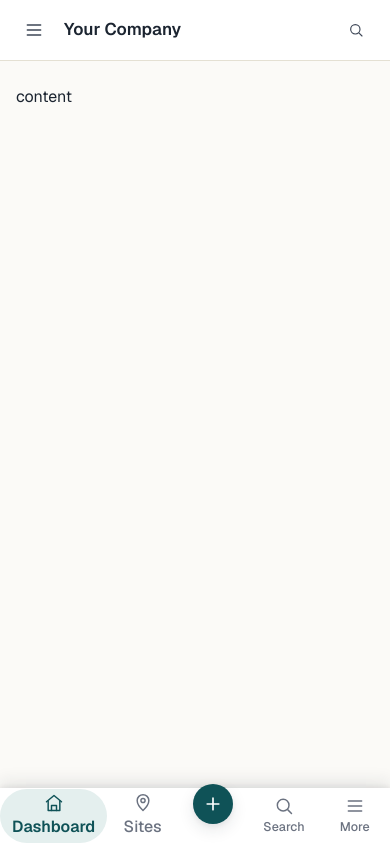
Test case: AppShell › closes the mobile drawer on Escape
Click the button named "Open navigation menu" at point(34, 30), box 16,12 -> 52,48
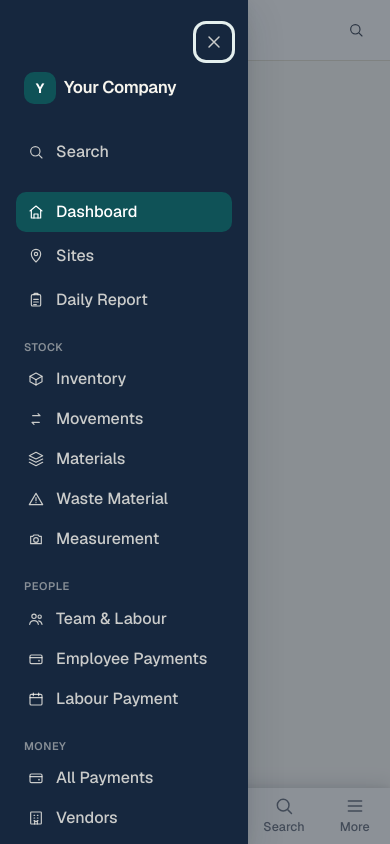
Press Escape
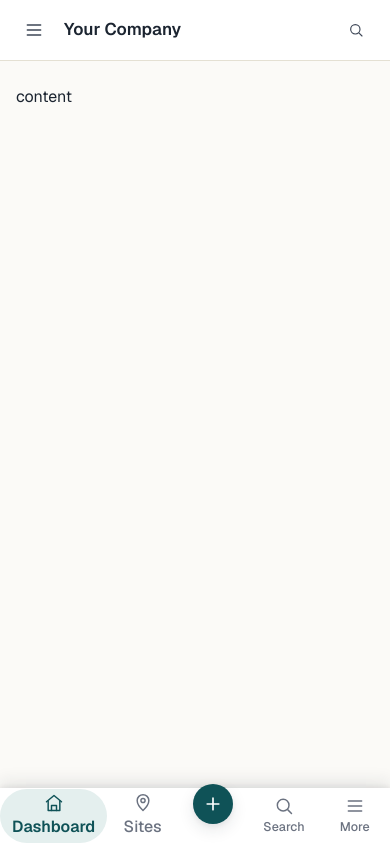
Check: the button named "Open navigation menu" is collapsed, box 16,12 -> 52,48
